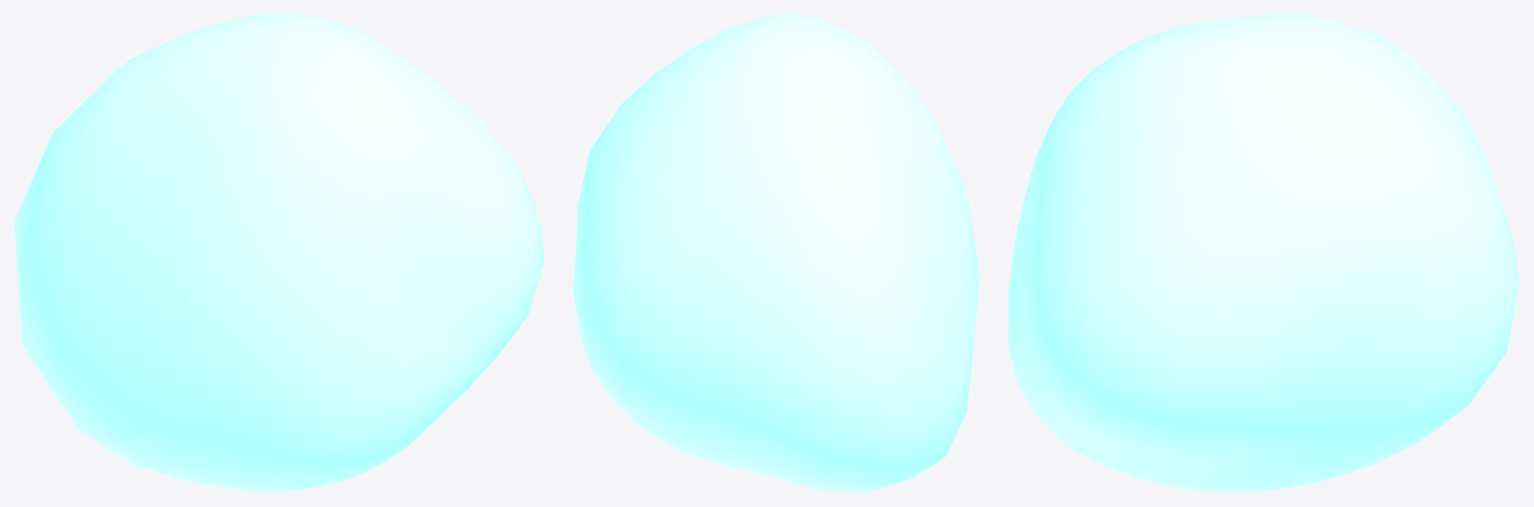
The model's file is Water1.gltf.
3 renders of one model, left to right at view 1: azimuth 30°, elevation 25°; view 2: azimuth 150°, elevation 25°; view 3: azimuth 270°, elevation 25°, orthographic. The views are drawn at different scales.
Parts seen in each view (by area): view 1: Sphere; view 2: Sphere; view 3: Sphere.
Boxes of the visible parts, x1=… form: Sphere: x1=14, y1=14, x2=544, y2=492; Sphere: x1=573, y1=14, x2=979, y2=492; Sphere: x1=1008, y1=14, x2=1519, y2=492.
Bounding box in the file's own units: 3.2 × 3.2 × 3.2.
